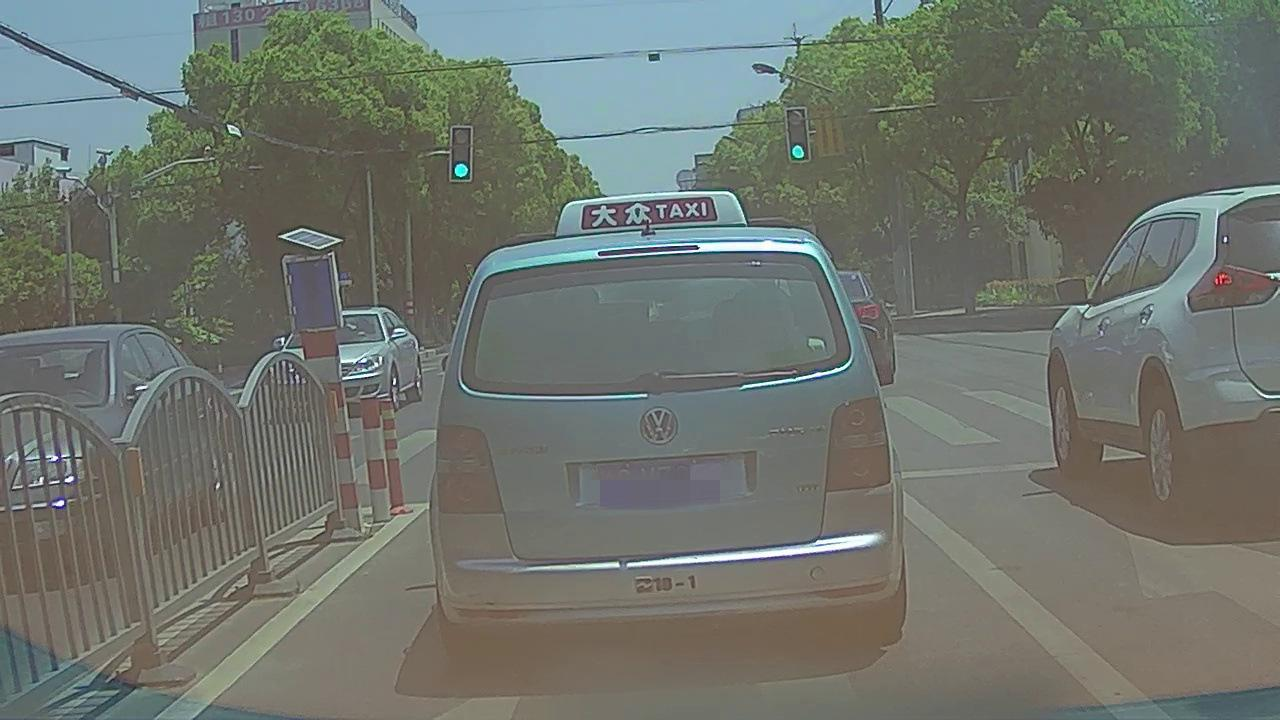traffic_light: (789, 108, 808, 161), (452, 127, 470, 180)
